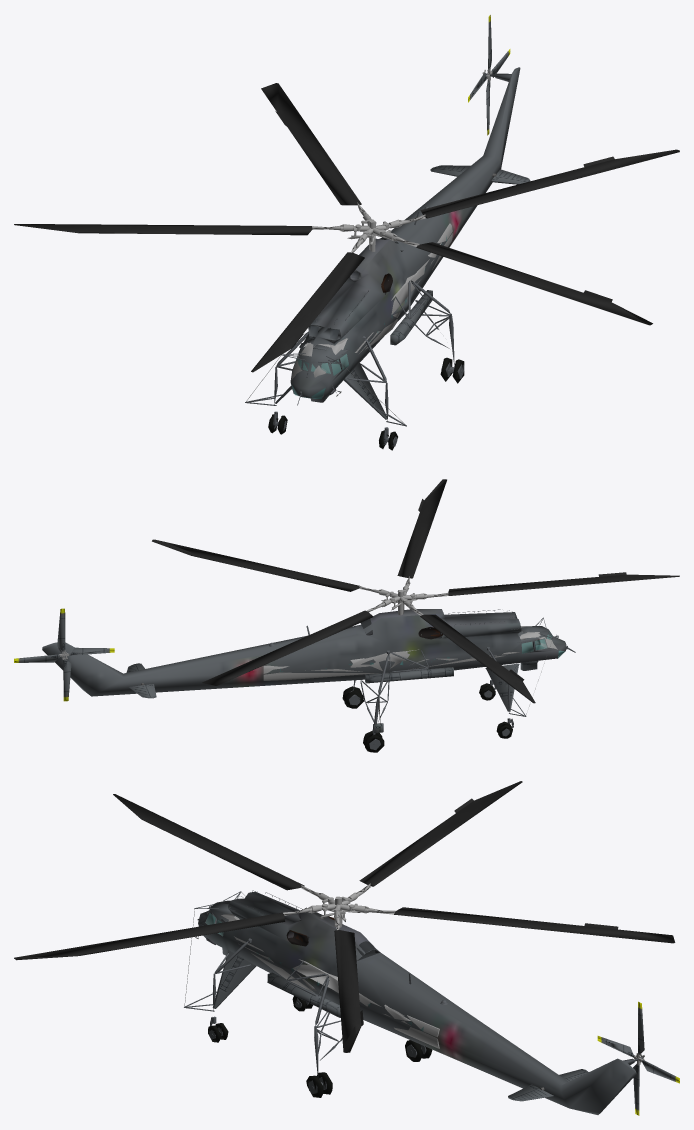
3 views of the same model, one above another, from view 1: azimuth 30°, elevation 25°; view 2: azimuth 150°, elevation 25°; view 3: azimuth 270°, elevation 25° (orthographic). The views are drawn at different scales.
Parts seen in each view (by area): view 1: Line___-FACES, Line40-FACES, Line39-FACES, Line41-FACES, Line42-FACES, Line38-FACES, Object01-FACES, Cylinder22-FACES, OilTank02-FACES; view 2: Line___-FACES, Object01-FACES, Line40-FACES, Line41-FACES, Line38-FACES, Line42-FACES, Line39-FACES, OilTank03-FACES, Cylinder05-FACES; view 3: Line___-FACES, Line40-FACES, Line42-FACES, Line38-FACES, Line41-FACES, Line39-FACES, Object01-FACES, Cylinder22-FACES, OilTank02-FACES.
Part boxes in pixels (box(x1,y1,x2,y2)): Line___-FACES: box(290, 67, 520, 398); Line40-FACES: box(261, 83, 361, 205); Line39-FACES: box(14, 224, 312, 235); Line41-FACES: box(420, 149, 679, 218); Line42-FACES: box(416, 242, 652, 325); Line38-FACES: box(251, 252, 364, 372); Object01-FACES: box(291, 223, 452, 397); Cylinder22-FACES: box(343, 363, 387, 419); OilTank02-FACES: box(390, 290, 432, 345); Line___-FACES: box(42, 609, 566, 696); Object01-FACES: box(263, 626, 557, 680); Line40-FACES: box(202, 610, 373, 685); Line41-FACES: box(152, 539, 360, 591); Line38-FACES: box(448, 572, 679, 595); Line42-FACES: box(397, 479, 446, 578); Line39-FACES: box(420, 614, 535, 703); OilTank03-FACES: box(365, 667, 453, 683); Cylinder05-FACES: box(485, 663, 519, 711); Line___-FACES: box(198, 891, 636, 1114); Line40-FACES: box(394, 907, 675, 943); Line42-FACES: box(14, 912, 285, 960); Line38-FACES: box(113, 794, 304, 890); Line41-FACES: box(334, 930, 363, 1052); Line39-FACES: box(359, 781, 522, 886); Object01-FACES: box(205, 910, 439, 1048); Cylinder22-FACES: box(212, 950, 256, 1008); OilTank02-FACES: box(267, 972, 340, 1017).
Size of the model in its own units: 32.51 by 10.53 by 33.49.
17 materials, 11 textured.
